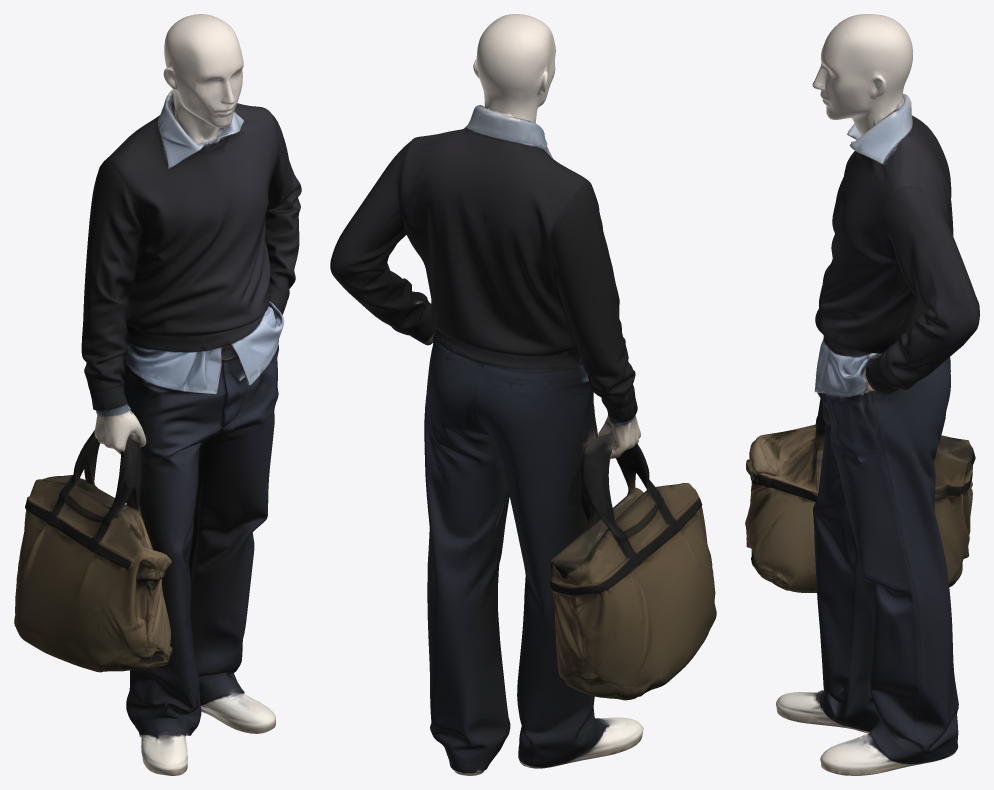
File: Cloth-Maneq.fbx
3 views of the same model, side by side, from view 1: azimuth 30°, elevation 25°; view 2: azimuth 150°, elevation 25°; view 3: azimuth 270°, elevation 25° (orthographic). The views are drawn at different scales.
Visible parts, largest first — view 1: node_0; view 2: node_0; view 3: node_0.
Part boxes in pixels (left/top/right/bottom): node_0: left=14, top=14, right=301, bottom=775; node_0: left=330, top=14, right=716, bottom=775; node_0: left=745, top=14, right=979, bottom=775.
Size of the model in its own units: 51.35 by 116 by 33.9.
Materials: 1 (1 with a texture image).
